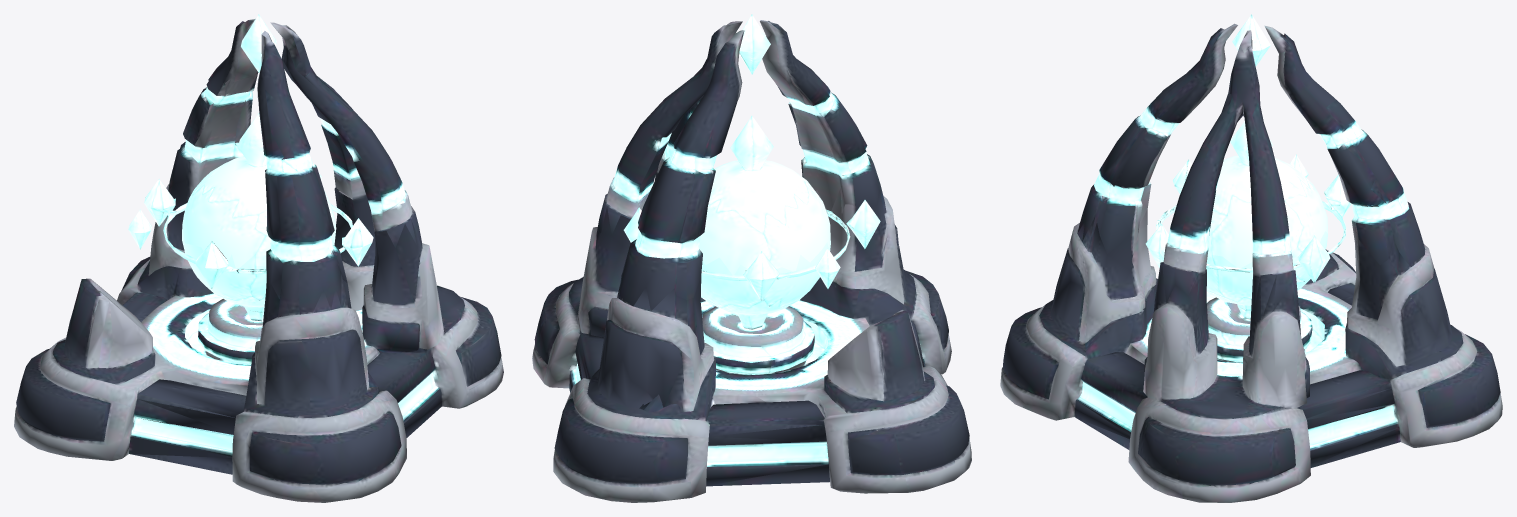
File: warrior-3-tier-3.glb
3 views of the same model, side by side, from view 1: azimuth 30°, elevation 25°; view 2: azimuth 150°, elevation 25°; view 3: azimuth 270°, elevation 25° (orthographic). The views are drawn at different scales.
Visible parts, largest first — view 1: fixed-platform, moving-assembly; view 2: fixed-platform, moving-assembly; view 3: fixed-platform, moving-assembly.
Boxes of the visible parts, box(x1,y1,x2,y2) form: fixed-platform: box(14, 180, 503, 502); moving-assembly: box(128, 14, 422, 315); fixed-platform: box(532, 167, 971, 502); moving-assembly: box(598, 14, 880, 310); fixed-platform: box(1000, 187, 1502, 502); moving-assembly: box(1077, 14, 1424, 319).
Size of the model in its own units: 0.9644 by 0.813 by 0.9647.
1 material, 1 textured.
